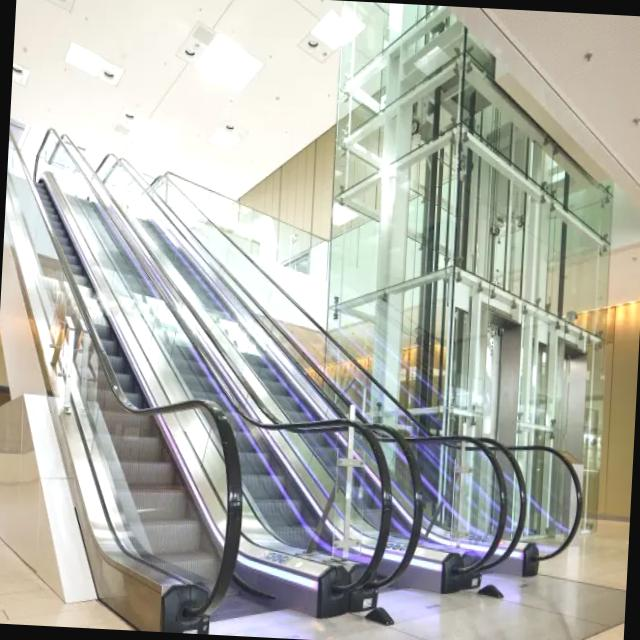escalator: (90, 140, 627, 640), (7, 118, 401, 640)
